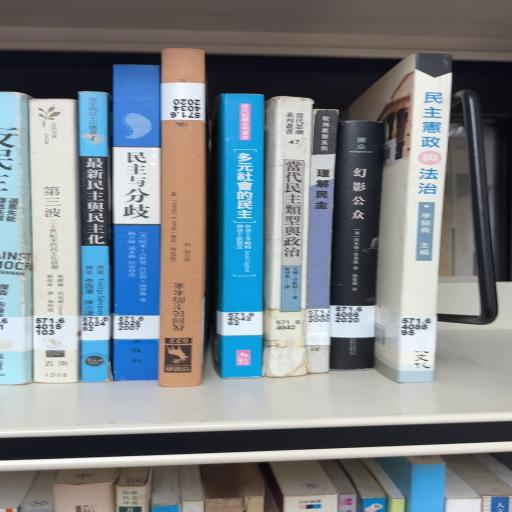reverse: (159, 49, 208, 387)
